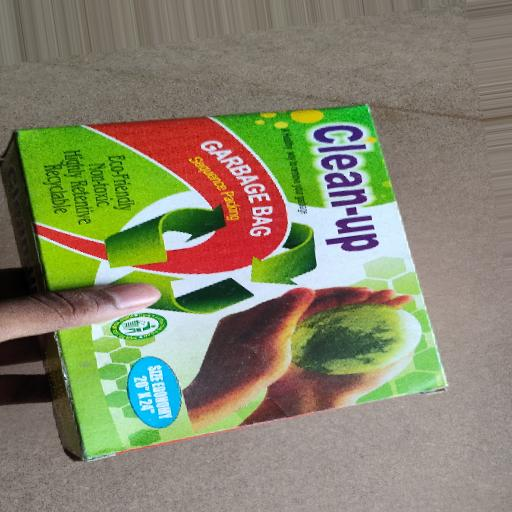CleanUp Garbage bag: (7, 88, 454, 465)
